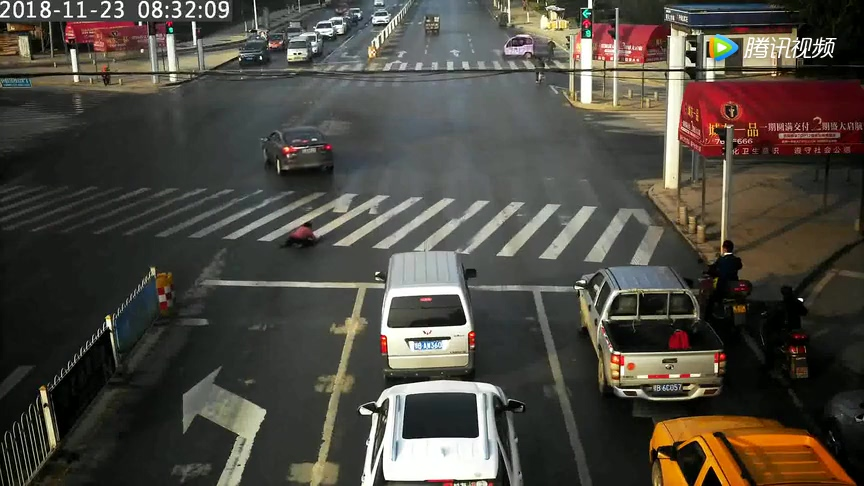car: (569, 263, 734, 403), (362, 381, 527, 486), (372, 252, 497, 376), (262, 120, 345, 172), (489, 32, 542, 63), (284, 37, 316, 74), (238, 40, 273, 65), (418, 9, 443, 36), (312, 19, 339, 41), (323, 12, 349, 34), (363, 9, 391, 27)
person: (759, 278, 807, 387), (709, 238, 746, 351), (278, 214, 331, 251), (537, 31, 566, 66), (526, 56, 549, 87), (94, 64, 117, 93)
